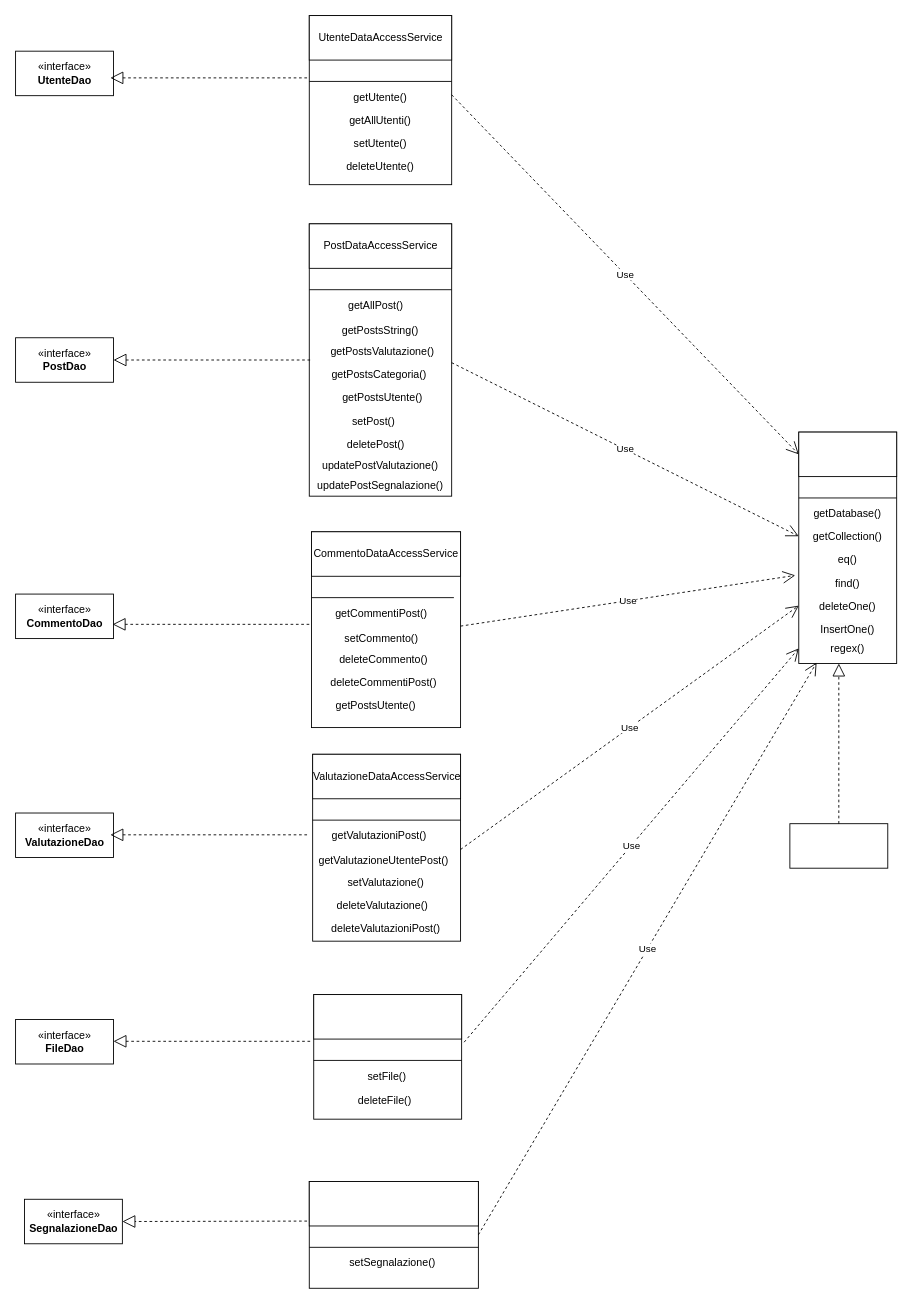
This 912x1304 diagram has some shape labels left out. The centre of each missing label's shape, as x and y in pixels:
"FileDataAccessService" goes at (x=387, y=1016).
"MongoDB Database Connection" goes at (x=838, y=845).
"SegnalazioneDataAccessService" goes at (x=393, y=1203).
"«interface» Connection" goes at (x=847, y=454).
